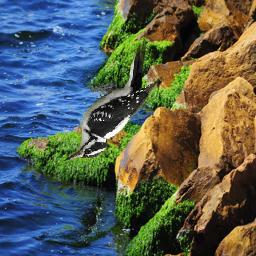Woodpecker: (63, 41, 158, 166)
